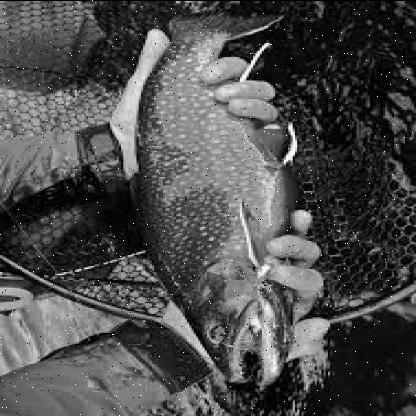fish: (132, 8, 310, 398)
